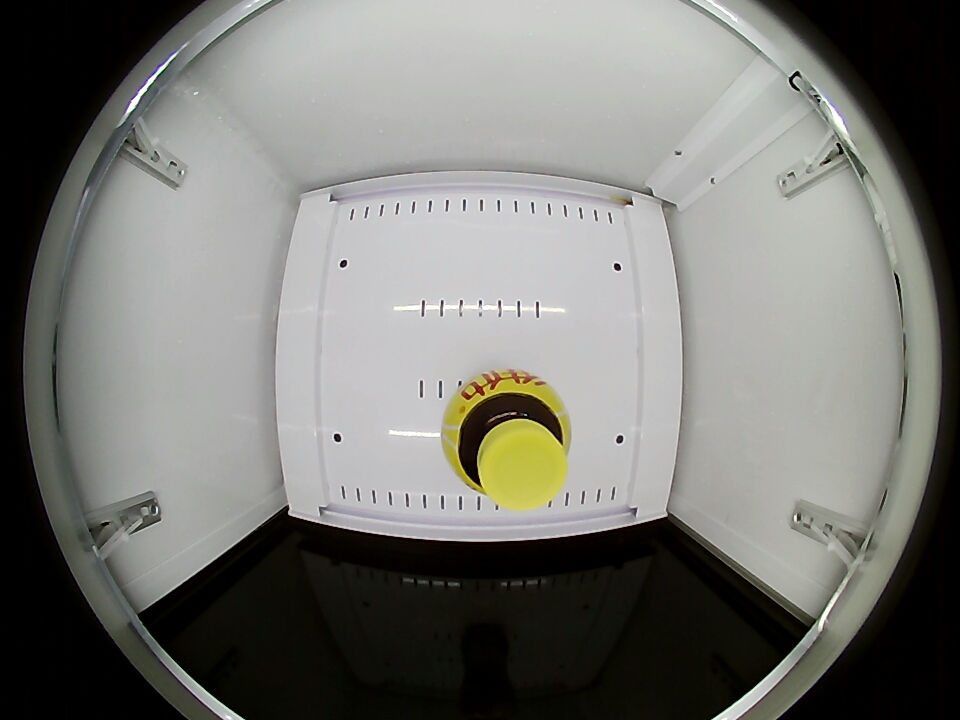weitaningmeng-bottle: (444, 372, 571, 511)
